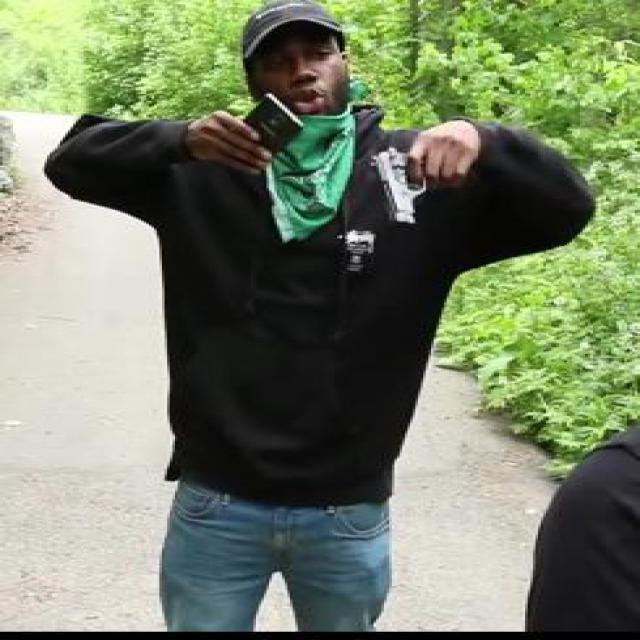Gun: (368, 140, 471, 228)
